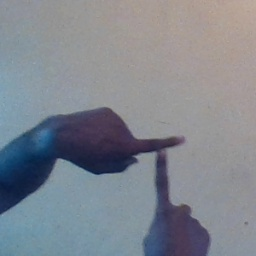T: (113, 114, 207, 225)
